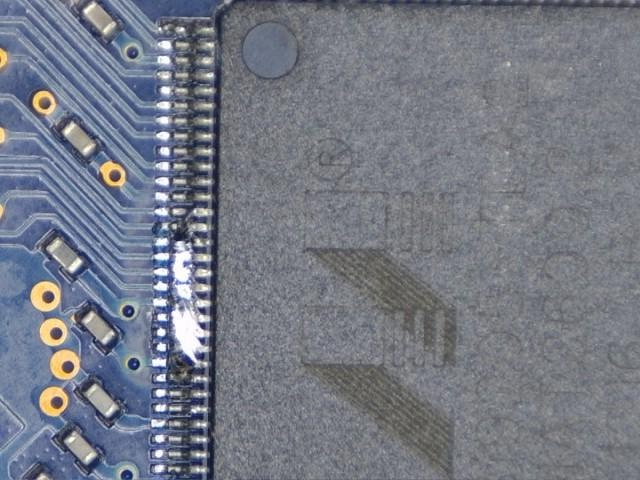pcb_defect: (152, 237, 213, 383)
